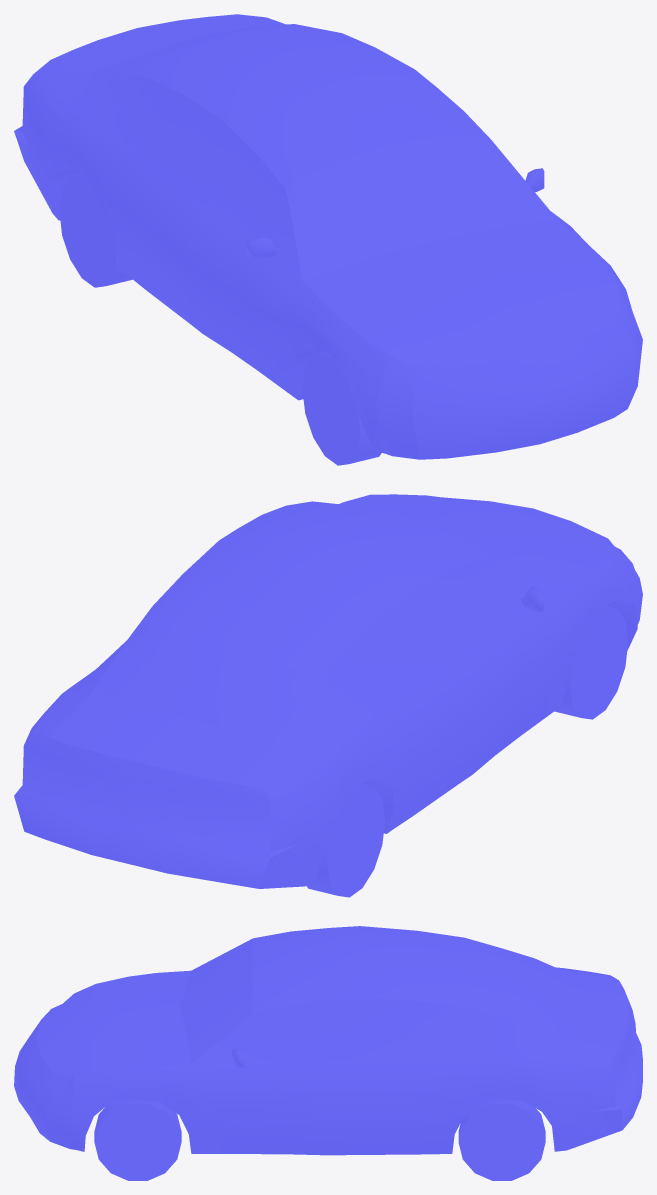
File: car.glb
3 views of the same model, one above another, from view 1: azimuth 30°, elevation 25°; view 2: azimuth 150°, elevation 25°; view 3: azimuth 270°, elevation 25° (orthographic). The views are drawn at different scales.
Visible parts, largest first — view 1: car; view 2: car; view 3: car.
Boxes of the visible parts, <box> form: car: <box>14,14,642,465</box>; car: <box>14,494,642,897</box>; car: <box>14,926,642,1180</box>.
Size of the model in its own units: 1.89 by 1.5 by 4.64.
